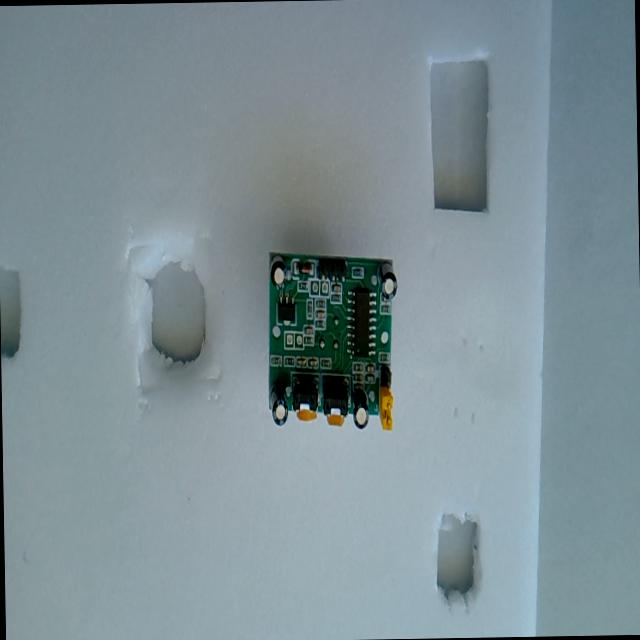Electrolytic capacitor: (270, 382, 288, 426), (378, 261, 398, 300), (352, 388, 368, 432), (269, 255, 286, 287)
IC: (347, 289, 376, 359)
pinheader: (318, 259, 347, 282)
